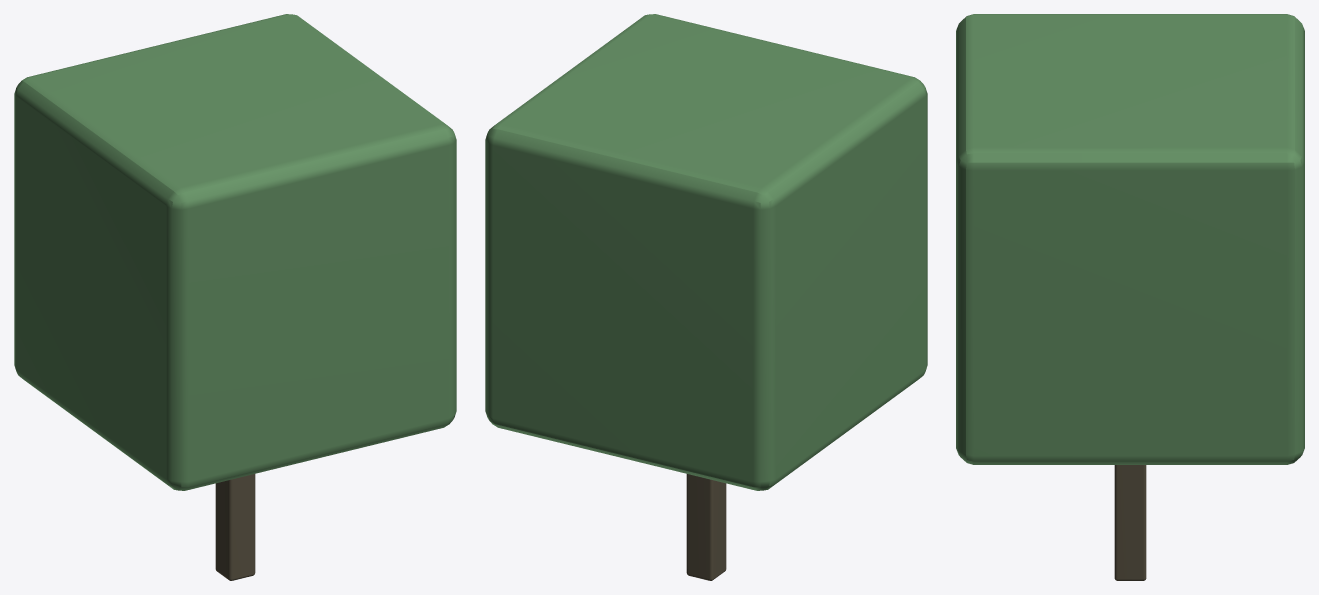
Rendered from Tree_007.fbx.
3 views of the same model, side by side, from view 1: azimuth 30°, elevation 25°; view 2: azimuth 150°, elevation 25°; view 3: azimuth 270°, elevation 25° (orthographic). The views are drawn at different scales.
Visible parts, largest first — view 1: tree_007; view 2: tree_007; view 3: tree_007.
Part boxes in pixels (x1,y1,x2,y2): tree_007: (14, 14, 456, 580); tree_007: (485, 14, 927, 580); tree_007: (956, 14, 1304, 580).
Size of the model in its own units: 2.67 by 4.17 by 2.67.
